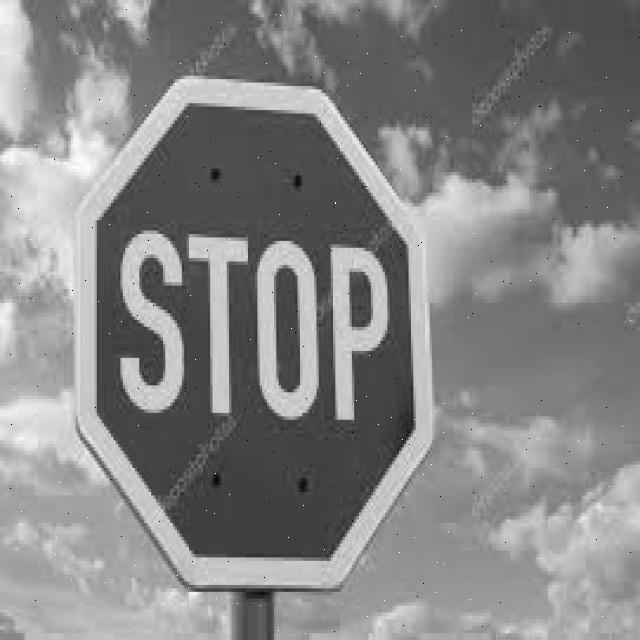Stop-sign: (48, 69, 452, 618)
